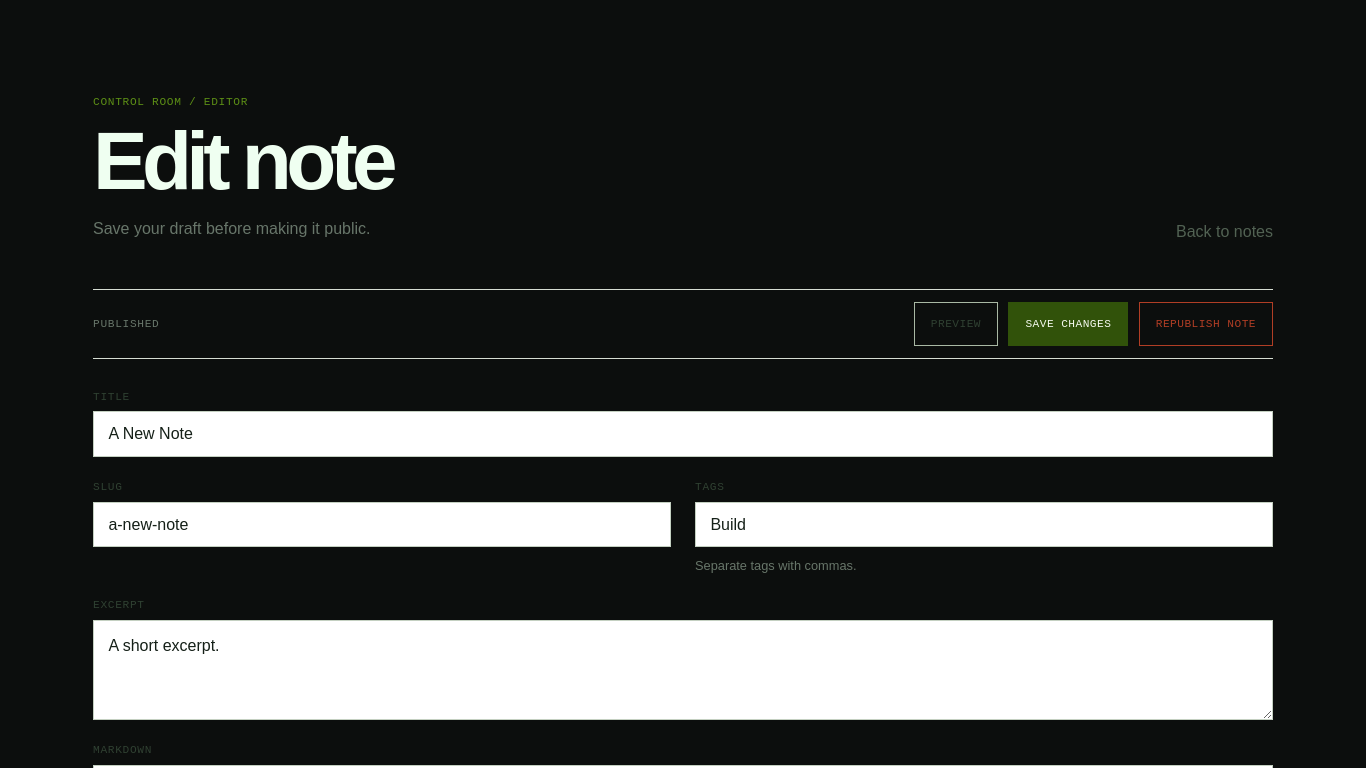
Test: AdminNoteEditorPage › shows a republish action and save button for a published note
The image size is (1366, 768).
Check: the field showing "A New Note" is shown, box [93,411,1273,457]
Check: the button "Save changes" is shown, box [1008,302,1128,346]
Click the button "Republish note": click(1206, 324) [1139,302,1273,346]
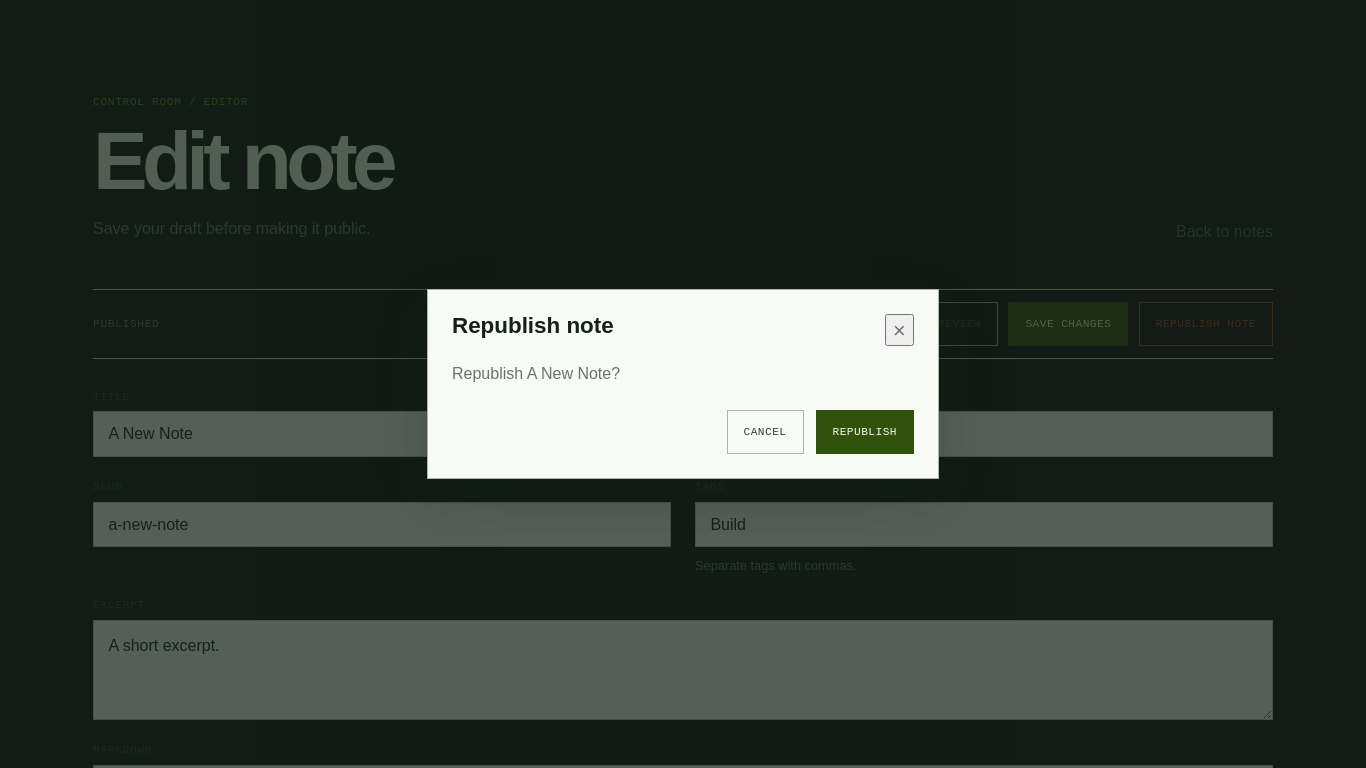
Click the button "Republish": click(865, 432) [816,410,914,454]
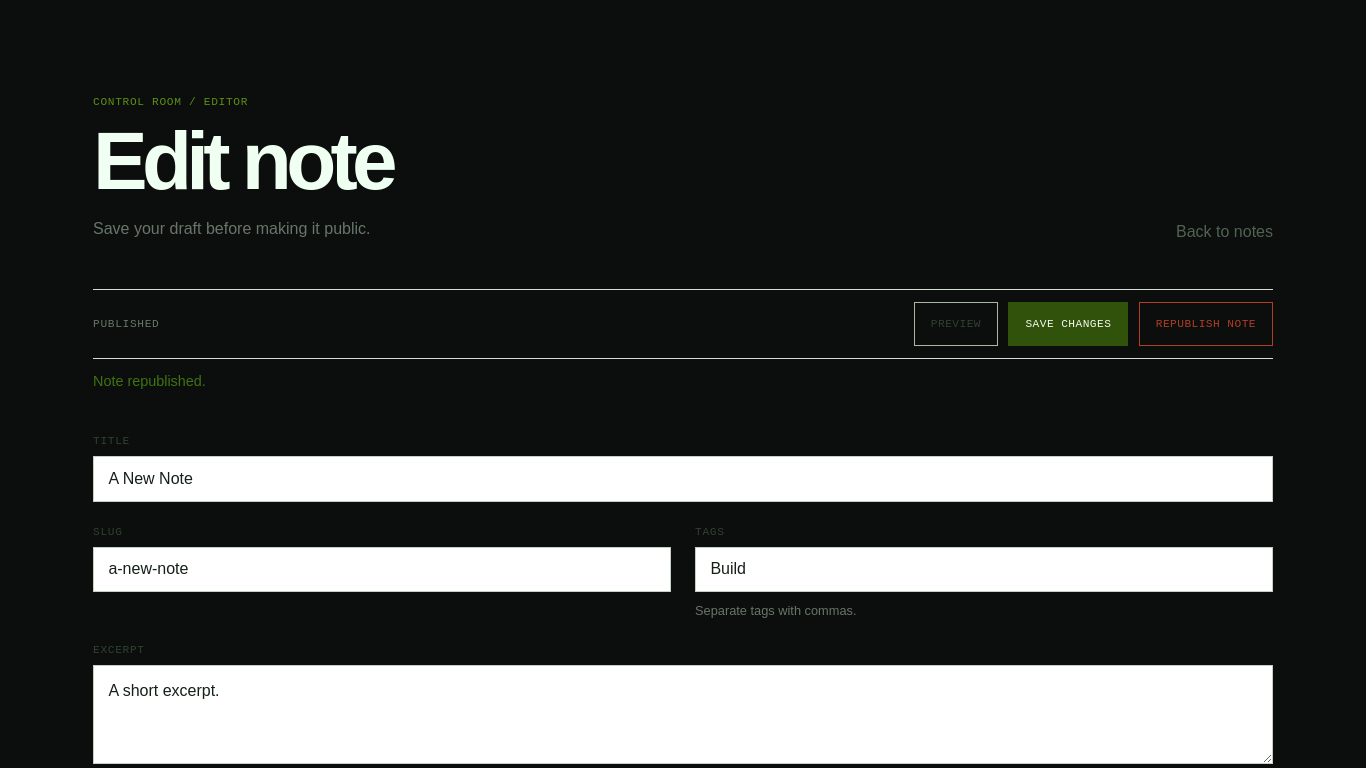
Check: the text "Note republished." is shown, box [93,373,206,389]
